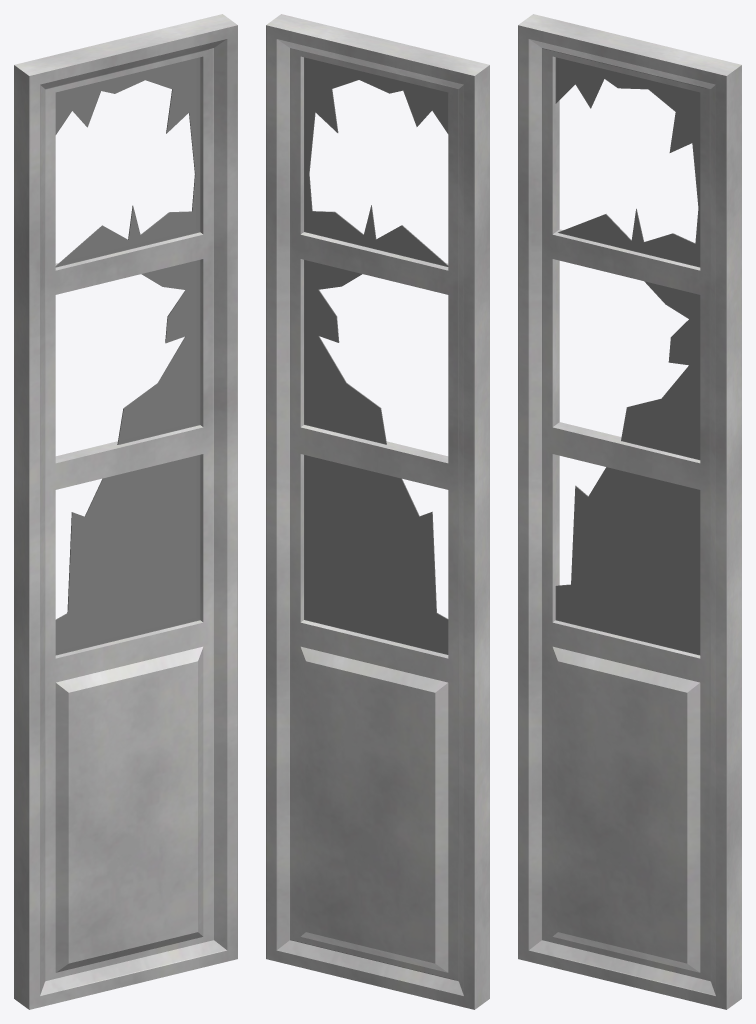
Rendered from Door_Left.obj.
The picture shows the model from 3 angles, left to right: view 1: azimuth 30°, elevation 25°; view 2: azimuth 150°, elevation 25°; view 3: azimuth 330°, elevation 25°; orthographic projection.
Visible parts, largest first — view 1: Door_Left, Door_Glass; view 2: Door_Left, Door_Glass; view 3: Door_Left, Door_Glass.
Part boxes in pixels (<box>): Door_Left: <box>14,14,237,1009</box>; Door_Glass: <box>55,57,200,655</box>; Door_Left: <box>266,14,489,1009</box>; Door_Glass: <box>304,57,448,654</box>; Door_Left: <box>518,14,741,1009</box>; Door_Glass: <box>555,57,700,655</box>.
Size of the model in its own units: 53.41 by 228 by 6.78.
